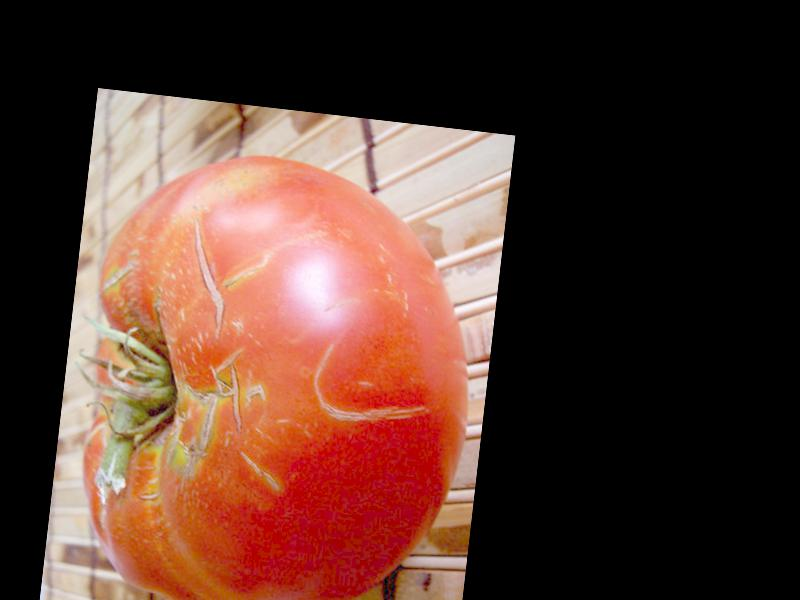Tomato: (62, 139, 487, 600)
